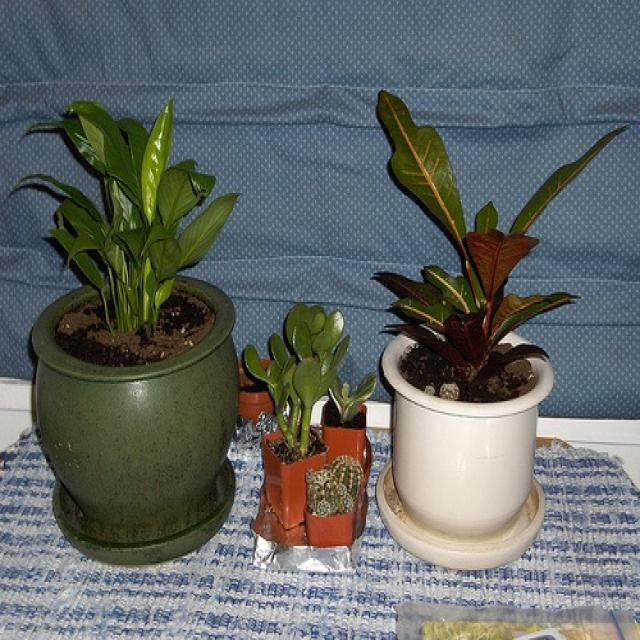pottedplant: (376, 84, 634, 570), (8, 96, 239, 566), (242, 306, 347, 528), (304, 456, 362, 548), (325, 366, 379, 458)
